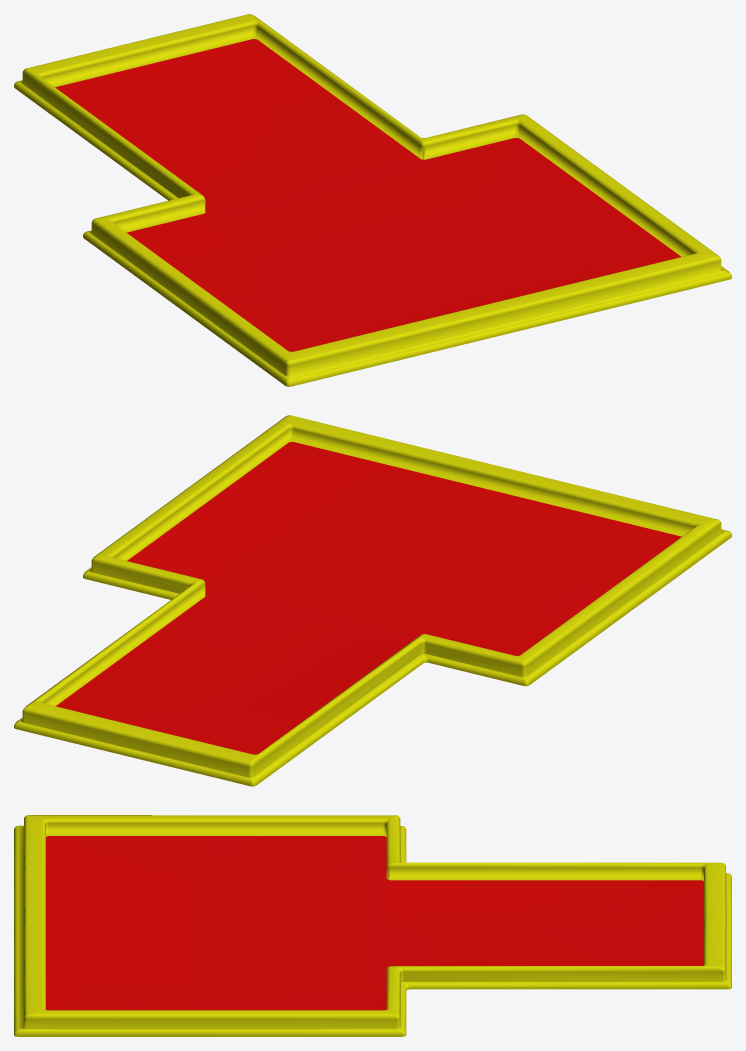
File: Water_Display.fbx
3 views of the same model, one above another, from view 1: azimuth 30°, elevation 25°; view 2: azimuth 150°, elevation 25°; view 3: azimuth 270°, elevation 25° (orthographic). The views are drawn at different scales.
Parts seen in each view (by area): view 1: Water_Display; view 2: Water_Display; view 3: Water_Display.
Part boxes in pixels (left/top/right/bottom): Water_Display: left=14, top=14, right=731, bottom=386; Water_Display: left=14, top=415, right=731, bottom=786; Water_Display: left=14, top=815, right=731, bottom=1036.
Size of the model in its own units: 1327 by 55.84 by 1944.
